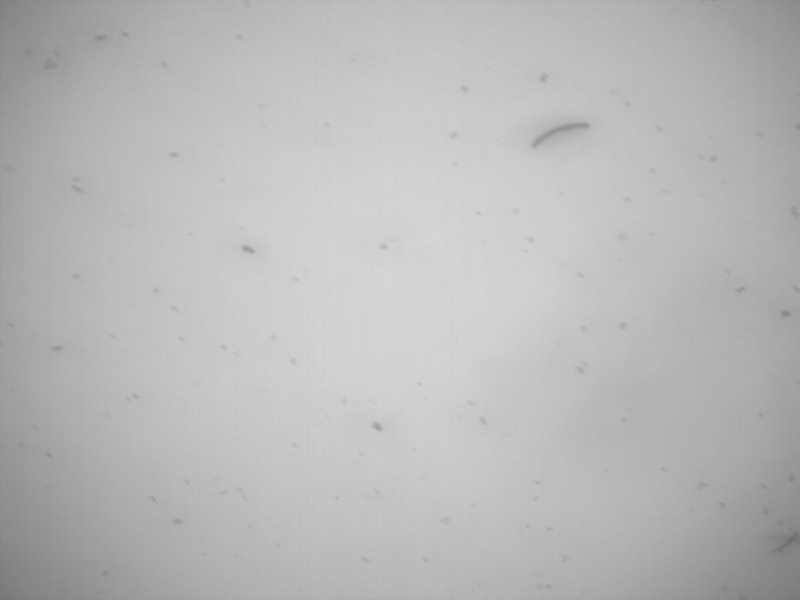fiber: (527, 120, 593, 150)
